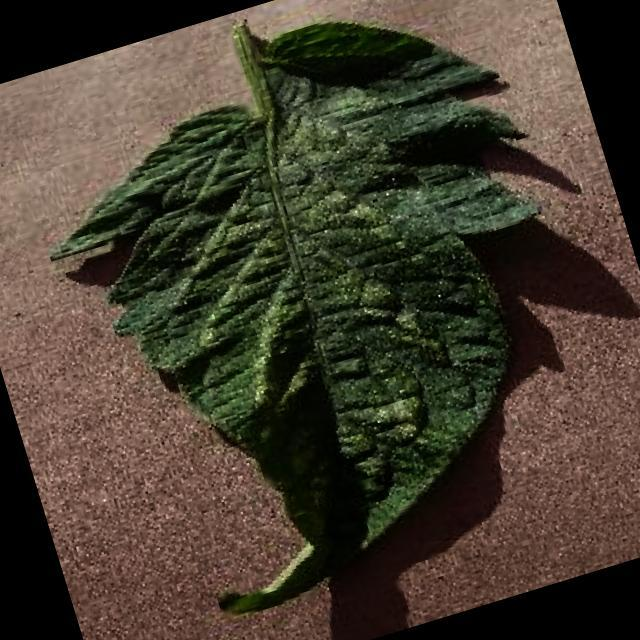Tomato spider mites leaf: (8, 0, 628, 640)
